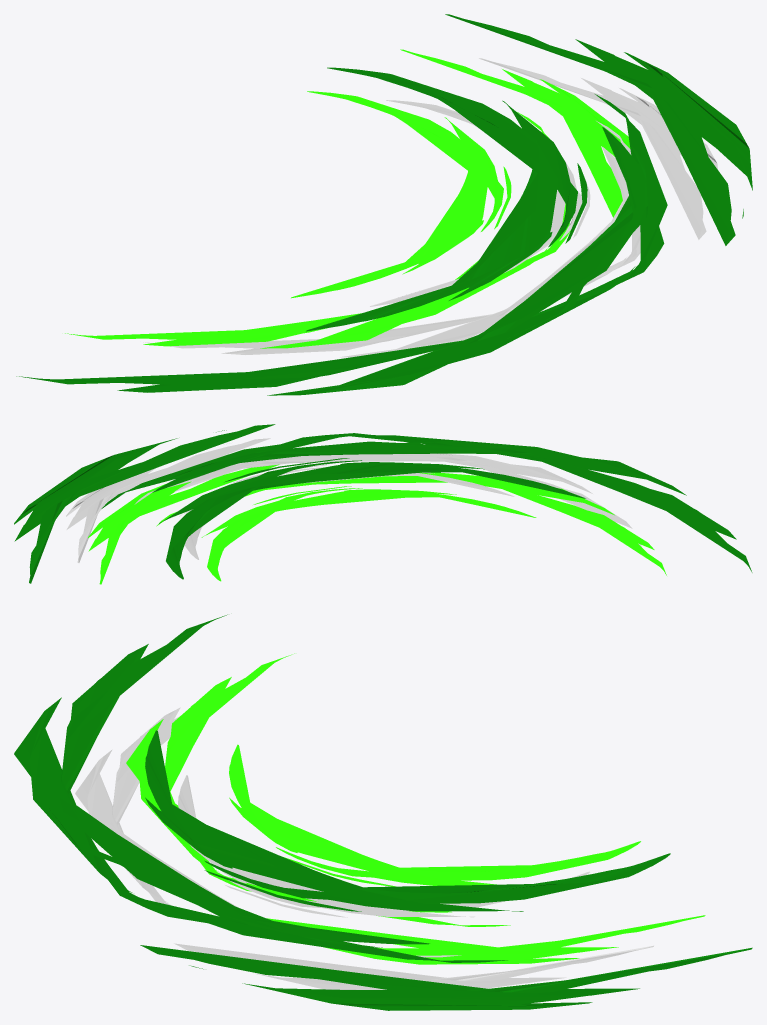
The model's file is Attack1.fbx.
The picture shows the model from 3 angles, top to bottom: view 1: azimuth 30°, elevation 25°; view 2: azimuth 150°, elevation 25°; view 3: azimuth 270°, elevation 25°; orthographic projection. The views are drawn at different scales.
Visible parts, largest first — view 1: Circle, Circle.004, Circle.005; view 2: Circle, Circle.004, Circle.005; view 3: Circle, Circle.004, Circle.005.
Part boxes in pixels (x1=…): Circle: x1=16, y1=14, x2=752, y2=395; Circle.004: x1=65, y1=49, x2=630, y2=348; Circle.005: x1=143, y1=58, x2=717, y2=357; Circle: x1=14, y1=424, x2=752, y2=583; Circle.004: x1=88, y1=464, x2=666, y2=584; Circle.005: x1=66, y1=438, x2=641, y2=562; Circle: x1=14, y1=614, x2=752, y2=1010; Circle.004: x1=126, y1=653, x2=705, y2=964; Circle.005: x1=75, y1=707, x2=653, y2=989.
Bounding box in the file's own units: 792 × 24.18 × 622.
